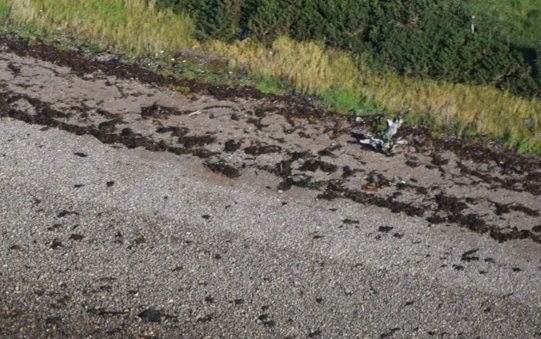white_in_green: (346, 97, 436, 178)
